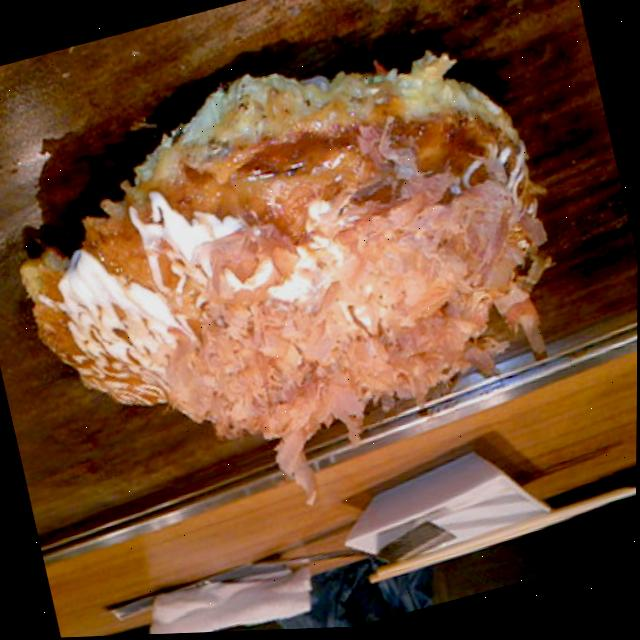蛋糕甜品: (0, 32, 562, 498)
